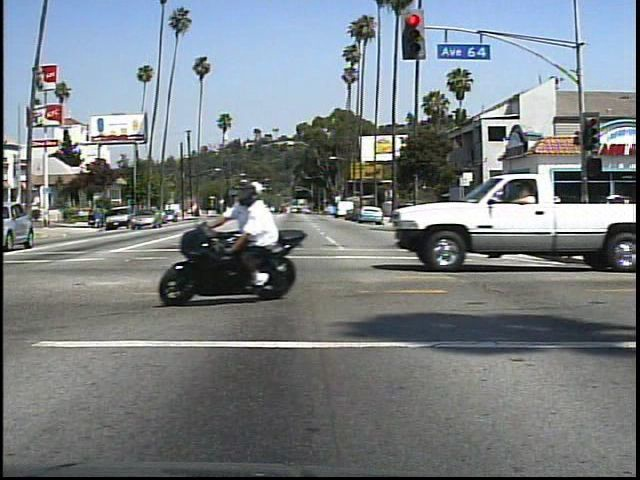person: (221, 177, 297, 296), (543, 192, 572, 245)
